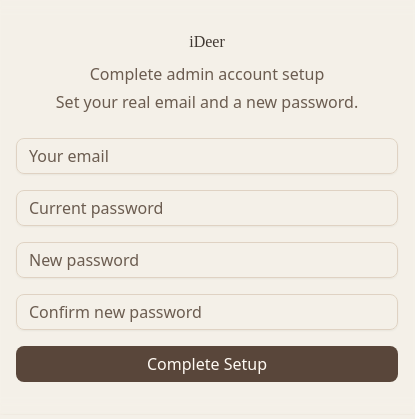
Test case: SetupPage › change_password mode shows password mismatch error
Check: the password field with placeholder "Current password" is shown, box x1=16 y1=190 x2=398 y2=226
Type "admin@test.com" into the field with placeholder "Your email" at {"x": 207, "y": 156}, box x1=16 y1=138 x2=398 y2=174
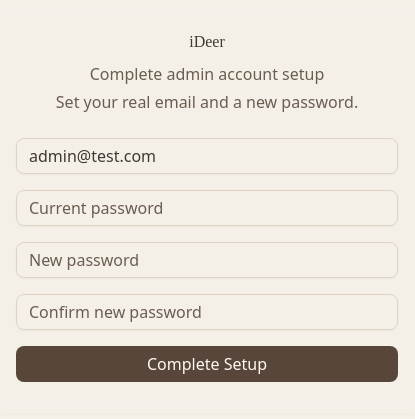
Type "old" into the password field with placeholder "Current password" at {"x": 207, "y": 208}, box x1=16 y1=190 x2=398 y2=226
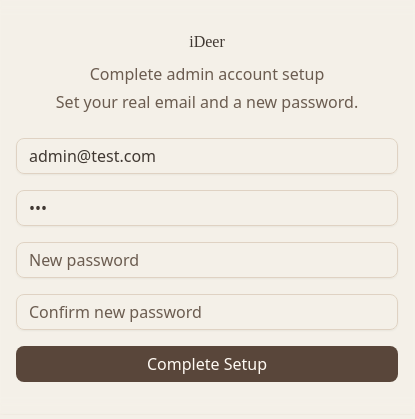
Type "newpassword123" into the password field with placeholder "New password" at {"x": 207, "y": 260}, box x1=16 y1=242 x2=398 y2=278
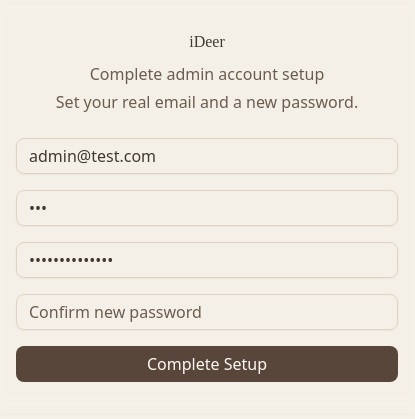
Type "different" into the password field with placeholder "Confirm new password" at {"x": 207, "y": 312}, box x1=16 y1=294 x2=398 y2=330
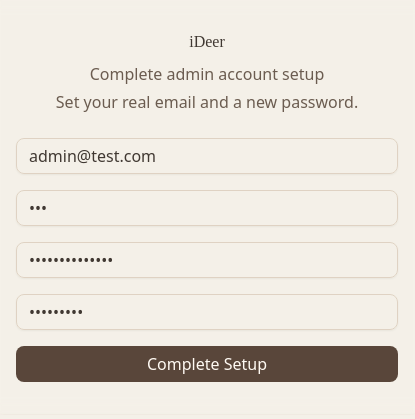
Submit the form with placeholder "Your email", box x1=16 y1=138 x2=398 y2=382
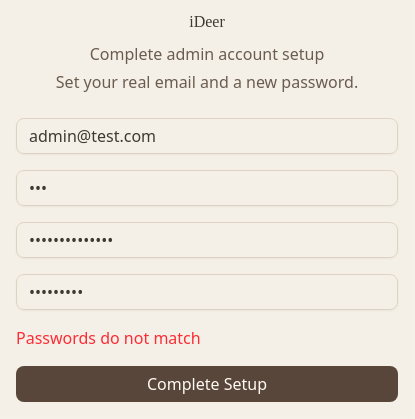
Check: the text "Passwords do not match" is shown, box x1=16 y1=327 x2=201 y2=349
